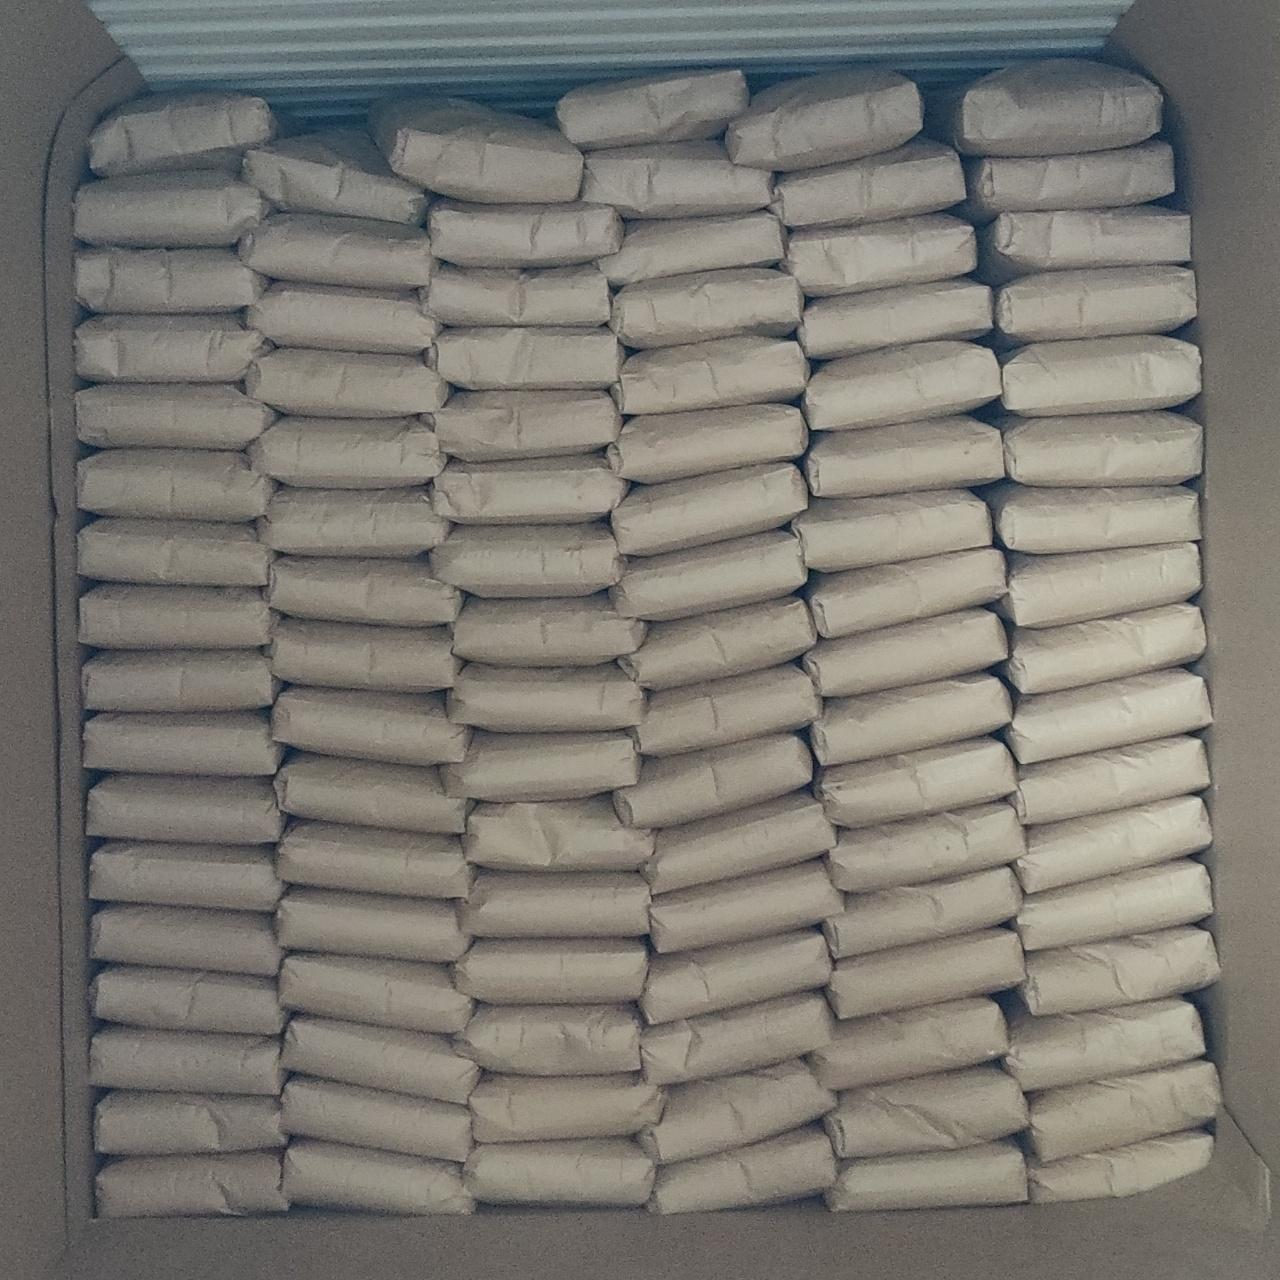sack: (930, 60, 1162, 152), (370, 100, 582, 198), (728, 68, 922, 168), (640, 1060, 834, 1160), (644, 792, 834, 892), (1028, 1060, 1218, 1158), (826, 1064, 1026, 1156), (616, 734, 810, 828), (1004, 604, 1204, 694), (1006, 670, 1210, 758), (1016, 798, 1210, 890), (1016, 860, 1210, 950), (812, 676, 1010, 764), (1004, 998, 1202, 1086), (642, 930, 830, 1022), (614, 464, 806, 554), (810, 998, 1006, 1086), (642, 992, 832, 1082), (650, 860, 840, 950), (620, 598, 814, 686), (824, 868, 1018, 956), (806, 550, 1004, 636), (1020, 928, 1218, 1014), (804, 610, 1006, 694), (612, 530, 804, 618), (772, 138, 964, 226), (828, 802, 1022, 888), (816, 738, 1014, 822), (636, 664, 820, 754), (1010, 738, 1206, 822), (244, 132, 426, 222), (804, 344, 998, 428), (284, 1018, 478, 1102), (964, 140, 1172, 218), (830, 930, 1020, 1014), (650, 1126, 834, 1212), (998, 544, 1198, 622), (1000, 336, 1198, 414), (804, 416, 1002, 494), (982, 206, 1190, 280), (610, 268, 802, 348), (994, 266, 1194, 342), (784, 214, 974, 294), (90, 94, 280, 174), (614, 336, 808, 414), (282, 1078, 470, 1158), (794, 490, 990, 566), (610, 404, 806, 480), (276, 754, 470, 830), (272, 688, 470, 762), (1000, 412, 1202, 484), (76, 172, 272, 246), (280, 954, 470, 1030), (558, 72, 748, 148), (800, 280, 990, 356), (984, 484, 1198, 550), (240, 214, 436, 286), (582, 140, 770, 214), (278, 822, 470, 894), (268, 618, 460, 690), (284, 1140, 470, 1214), (598, 212, 784, 286), (432, 524, 622, 596), (464, 796, 652, 868), (248, 418, 446, 486), (276, 888, 468, 958), (90, 904, 282, 974), (78, 450, 274, 518), (432, 454, 628, 522), (828, 1142, 1024, 1210), (246, 348, 446, 414), (90, 842, 284, 910), (426, 392, 620, 460), (246, 282, 438, 350), (452, 594, 644, 662), (92, 1026, 284, 1094), (88, 774, 284, 840), (90, 966, 286, 1032), (442, 732, 638, 798), (76, 316, 270, 382), (266, 556, 460, 622), (470, 1074, 664, 1140), (260, 488, 448, 556), (1028, 1132, 1210, 1202), (448, 664, 644, 728), (466, 1138, 654, 1204), (76, 384, 276, 446), (84, 712, 284, 774), (456, 1004, 642, 1070), (80, 584, 276, 646), (452, 938, 646, 1000), (78, 520, 270, 582), (430, 200, 622, 262), (460, 872, 650, 934), (76, 248, 266, 310), (82, 650, 278, 710), (428, 328, 624, 388), (98, 1152, 286, 1214), (96, 1092, 284, 1152), (422, 264, 608, 324)
